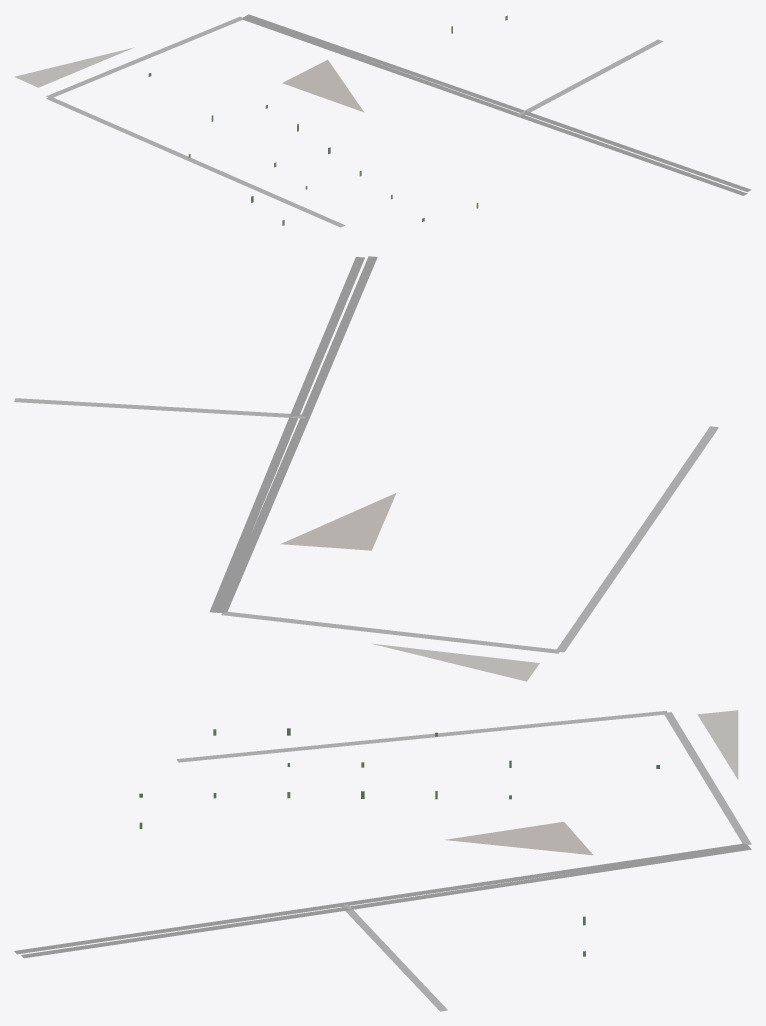
3 renders of one model, top to bottom at view 1: azimuth 30°, elevation 25°; view 2: azimuth 150°, elevation 25°; view 3: azimuth 270°, elevation 25°, orthographic. The views are drawn at different scales.
Size of the model in its own units: 580 by 9.16 by 599.
